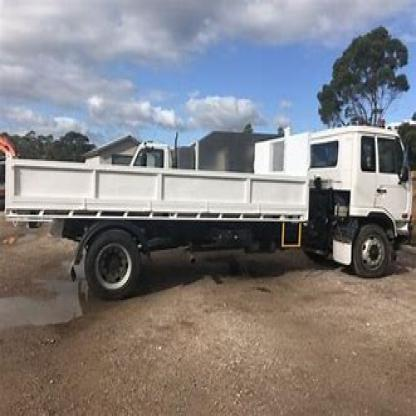dump_truck: (7, 92, 414, 302)
